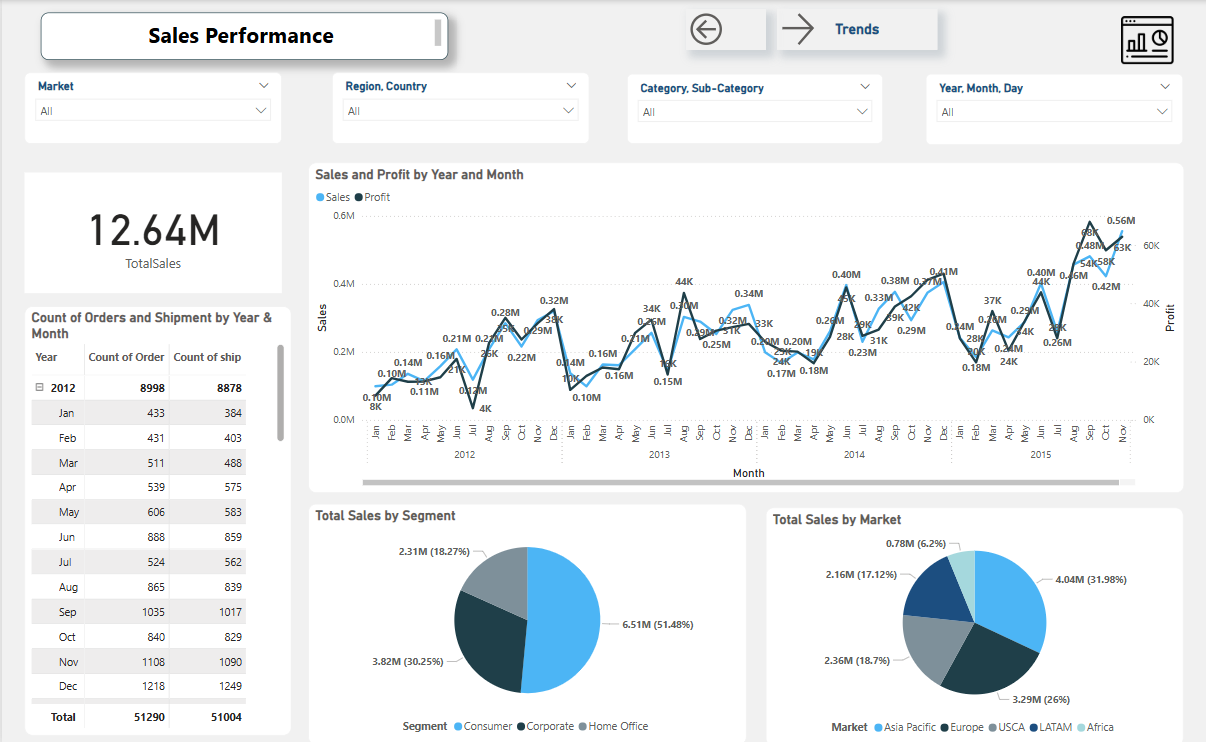

Layout of this report page (visuals, bound fields, positions):
{"tool":"powerbi","page":{"name":"Sales","canvas":[1500,930],"ordinal":1},"visuals":[{"type":"textbox","box":[48.3,15.6,508,59.2],"z":0},{"type":"image","box":[1382.9,12,91,75],"z":1000},{"type":"slicer","fields":{"Values":["Orders.Region","Orders.Country"]},"box":[411.4,90.4,321,88.8],"z":2000},{"type":"slicer","fields":{"Values":["Orders.Category","Orders.Sub-Category"]},"box":[779.2,91.9,319.5,87.3],"z":3000},{"type":"slicer","fields":{"Values":["Calendar.Year","Calendar.MonthSort","Calendar.Day"]},"box":[1151.6,91.9,321,88.8],"z":4000},{"type":"slicer","fields":{"Values":["Orders.Market"]},"box":[28,90.4,321,88.8],"z":5000},{"type":"lineChart","fields":{"Category":["Calendar.Year","Calendar.MonthSort"],"Y":["Sum(Orders.Sales)"],"Y2":["Sum(Orders.Profit)"]},"box":[381.1,202.6,1091.9,411.7],"z":6000},{"type":"pieChart","title":"Total Sales by Segment","fields":{"Category":["Orders.Segment"],"Y":["Sum(Orders.Sales)"]},"box":[381.1,628.8,546.7,300.7],"z":7000},{"type":"pieChart","title":"Total Sales by Market","fields":{"Y":["Sum(Orders.Sales)"],"Category":["Orders.Market"]},"box":[952,632,521,297.5],"z":8000},{"type":"pivotTable","title":"Count of Orders and Shipment by Year & Month","fields":{"Rows":["Calendar.Year","Calendar.MonthSort"],"Values":["CountNonNull(Orders.Order Date)","Orders.Count of ship"]},"box":[27.3,381.1,332.9,535.5],"z":9000},{"type":"card","fields":{"Values":["Orders.TotalSales"]},"box":[28,214.5,321,150],"z":10000},{"type":"actionButton","box":[852.3,11.3,100,51],"z":11000},{"type":"actionButton","box":[966.4,11.3,200,51],"z":12000}]}

Visuals, with their boxes in screenshot pixels (x1, y1, x2, y2), scaled from the page's 1500x930 canvas onto the 1206x742 screenshot:
textbox: (39, 12, 447, 60)
image: (1112, 10, 1185, 69)
slicer - Orders.Region x Orders.Country: (331, 72, 589, 143)
slicer - Orders.Category x Orders.Sub-Category: (626, 73, 883, 143)
slicer - Calendar.Year x Calendar.MonthSort: (926, 73, 1184, 144)
slicer - Orders.Market: (23, 72, 281, 143)
lineChart - Calendar.Year x Calendar.MonthSort: (306, 162, 1184, 490)
"Total Sales by Segment" pieChart: (306, 502, 746, 741)
"Total Sales by Market" pieChart: (765, 504, 1184, 741)
"Count of Orders and Shipment by Year & Month" pivotTable: (22, 304, 290, 731)
card - Orders.TotalSales: (23, 171, 281, 291)
actionButton: (685, 9, 766, 50)
actionButton: (777, 9, 938, 50)
